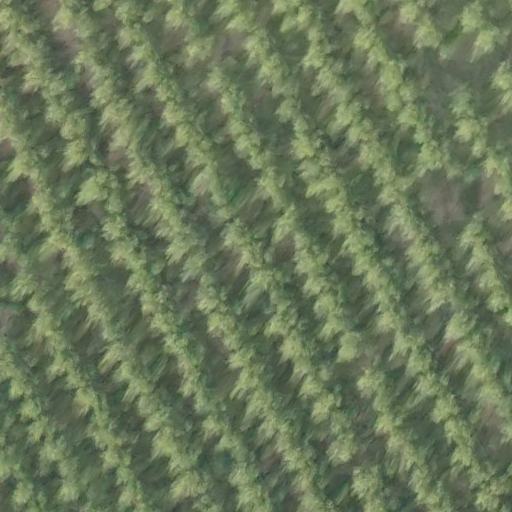eucalipto: (165, 328, 204, 364), (221, 338, 262, 371), (82, 170, 119, 203), (460, 216, 495, 250), (270, 300, 304, 335), (128, 263, 166, 294), (65, 138, 100, 171), (333, 97, 371, 127), (172, 120, 208, 151), (14, 150, 48, 182), (336, 330, 367, 365), (455, 114, 490, 145), (390, 327, 425, 358), (224, 218, 260, 248), (238, 365, 274, 395), (164, 97, 204, 123), (151, 430, 188, 458), (334, 207, 372, 234), (74, 387, 107, 418), (47, 350, 81, 380), (444, 310, 479, 339), (416, 370, 451, 399), (93, 421, 129, 449), (282, 336, 320, 362), (405, 347, 440, 375), (28, 183, 60, 213), (184, 248, 214, 280), (176, 366, 209, 395), (349, 468, 382, 497), (205, 308, 239, 336), (465, 247, 496, 277), (198, 276, 229, 306), (459, 1, 491, 30), (446, 87, 478, 116), (312, 292, 345, 320), (231, 131, 265, 158), (418, 140, 448, 170), (62, 109, 93, 138), (105, 212, 136, 241), (360, 369, 391, 398), (331, 433, 360, 464), (410, 235, 442, 263), (372, 282, 405, 309), (380, 306, 415, 331), (185, 36, 217, 63), (154, 306, 186, 333), (29, 417, 62, 443), (301, 374, 335, 399), (201, 410, 230, 439), (256, 53, 285, 82), (452, 442, 481, 471), (8, 371, 37, 400), (174, 470, 209, 494), (381, 59, 409, 89), (411, 22, 441, 50), (138, 61, 169, 88), (40, 437, 76, 460), (193, 388, 226, 413), (475, 26, 503, 55), (432, 393, 461, 421), (219, 88, 249, 115), (347, 117, 377, 144), (445, 418, 476, 444), (248, 396, 280, 421), (400, 101, 429, 128), (275, 95, 305, 121), (475, 270, 505, 296), (20, 397, 50, 423), (271, 210, 303, 234), (256, 269, 288, 293), (244, 31, 273, 57), (147, 408, 176, 434), (284, 447, 314, 472), (303, 156, 333, 181), (168, 449, 199, 473), (208, 63, 234, 91), (328, 313, 356, 339), (352, 24, 381, 49), (226, 111, 256, 135), (226, 11, 256, 35), (344, 230, 371, 256), (302, 44, 330, 69), (29, 288, 54, 315), (262, 417, 291, 440), (228, 464, 257, 486), (104, 450, 133, 470), (330, 409, 354, 432), (114, 466, 140, 483)
